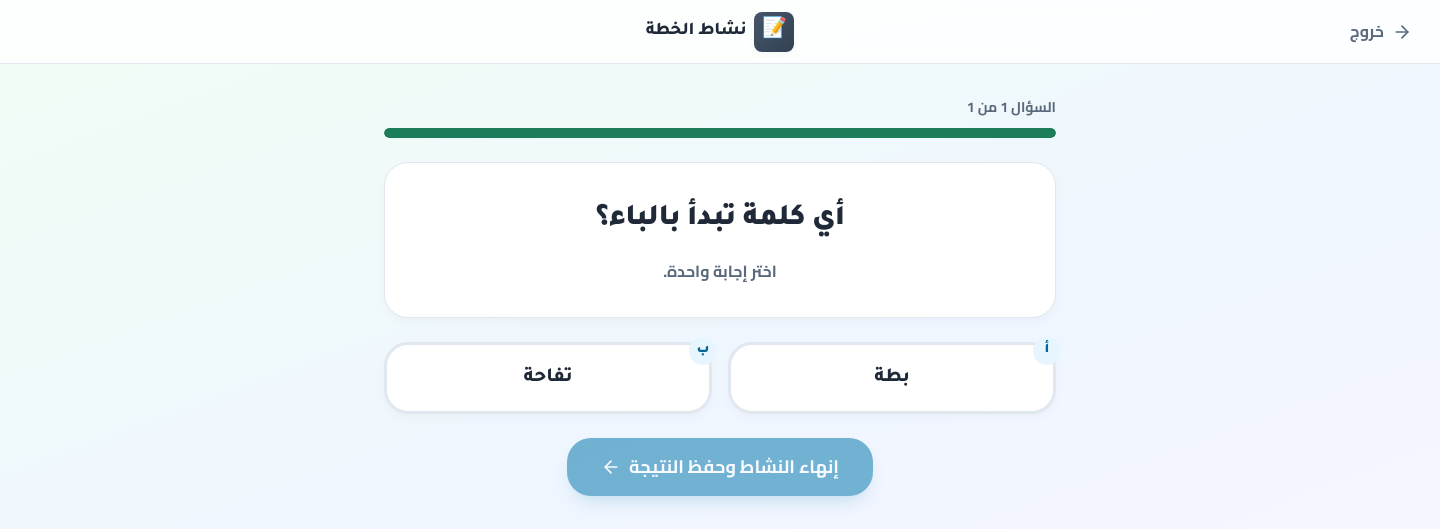
Test: PlanActivityPlayerPage › shows the server's message when the activity was already submitted (live 409)
What coordinates should you click on to do the following:
click the button "أ بطة"
I would click on:
 (892, 378)
Its box is [728,342,1056,414].
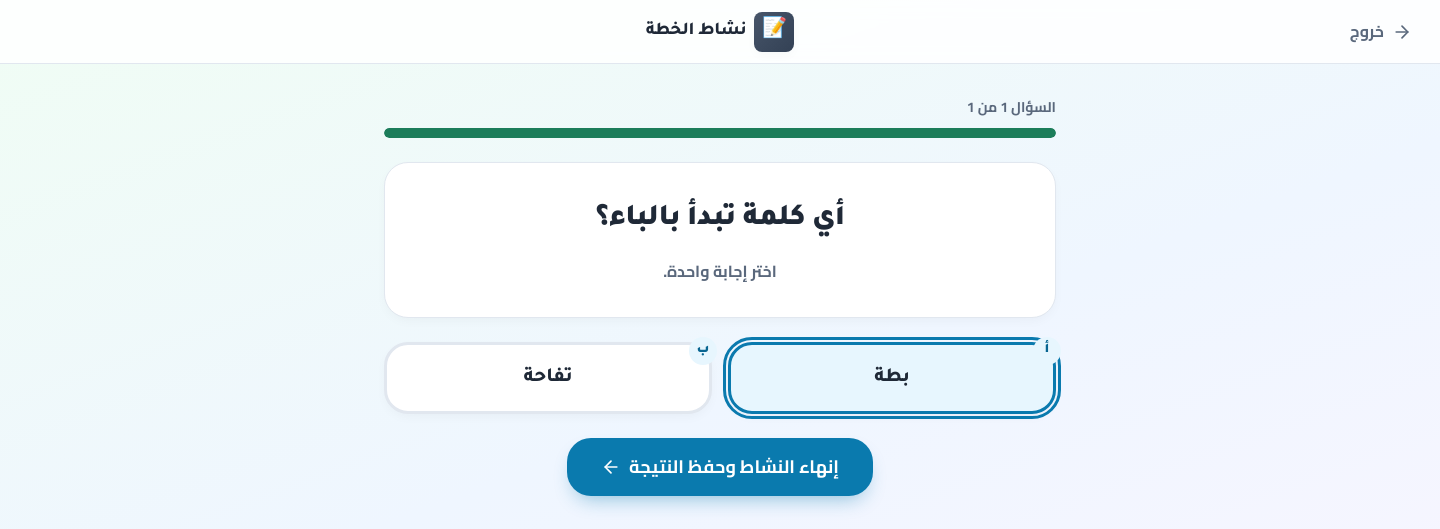
What coordinates should you click on to do the following:
click the button "إنهاء النشاط وحفظ النتيجة"
I would click on:
 (720, 467)
Its box is [567,438,873,496].
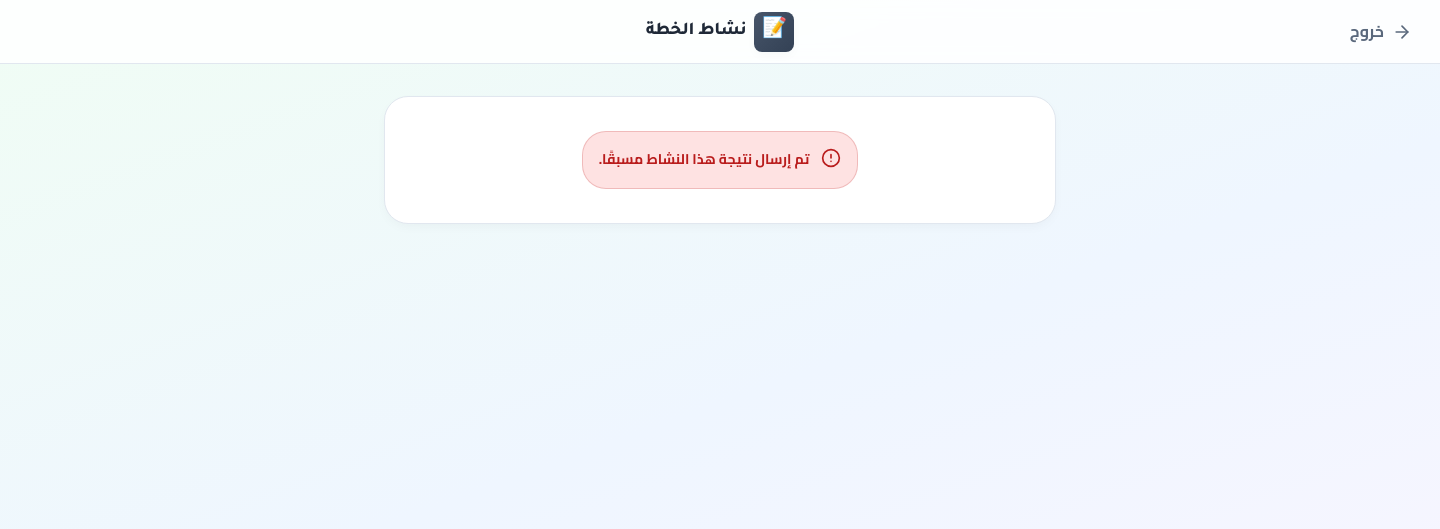
Check: the text "تم إرسال نتيجة هذا النشاط مسبقًا." is shown, box [599,148,809,172]
